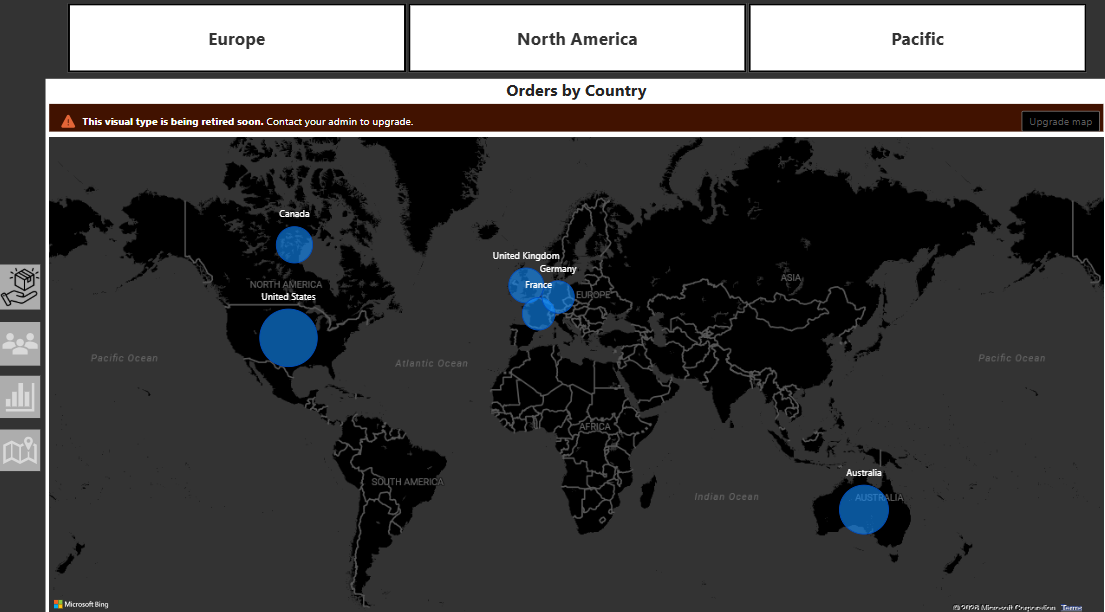

Layout of this report page (visuals, bound fields, positions):
{"tool":"powerbi","page":{"name":"Map","canvas":[1280,720],"ordinal":1},"visuals":[{"type":"map","title":"Orders by Country","fields":{"Category":["Company Territory Lookup.Country"],"Size":["table measures.total order"]},"box":[52.5,94.2,1226.7,627],"z":0},{"type":"image","box":[0,375.2,46.2,50.5],"z":0,"group":"g1"},{"type":"slicer","title":"CONTINENT","fields":{"Values":["Company Territory Lookup.Continent"]},"box":[52.5,0,1226.7,94.2],"z":1000},{"type":"image","box":[0,437.2,46.2,49.1],"z":1000,"group":"g1"},{"type":"shape","title":"left bar","box":[0,0,52.5,719.4],"z":2000},{"type":"image","box":[0,499.2,46.2,47.6],"z":2000,"group":"g1"},{"type":"group","id":"g1","title":"navigation button","box":[0,308.8,46.2,238.1],"z":3000},{"type":"image","box":[0,308.8,46.2,51.9],"z":3000,"group":"g1"}]}

Visuals, with their boxes on the page's 1280x720 design canvas (x1, y1, x2, y2). These are canvas units, not pixel positions in the 1105x612 screenshot, which may show the page scaled, cropped or inside an application window:
"Orders by Country" map: BBox(52, 94, 1279, 721)
image: BBox(0, 375, 46, 426)
"CONTINENT" slicer: BBox(52, 0, 1279, 94)
image: BBox(0, 437, 46, 486)
"left bar" shape: BBox(0, 0, 52, 719)
image: BBox(0, 499, 46, 547)
"navigation button" group: BBox(0, 309, 46, 547)
image: BBox(0, 309, 46, 361)
